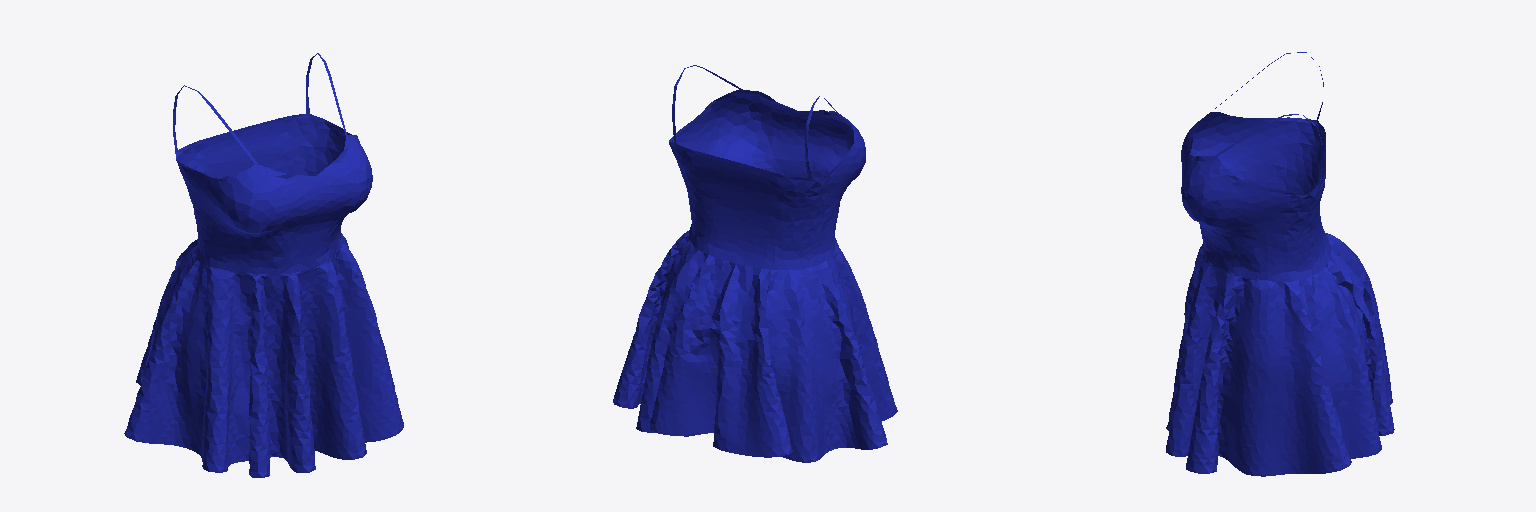
The picture shows the model from 3 angles: view 1: azimuth 30°, elevation 25°; view 2: azimuth 150°, elevation 25°; view 3: azimuth 270°, elevation 25°; orthographic projection.
Visible parts, largest first — view 1: large_blueDress:polySurface1; view 2: large_blueDress:polySurface1; view 3: large_blueDress:polySurface1.
Part boxes in pixels (x1,y1,x2,y2): large_blueDress:polySurface1: (124, 53, 403, 477); large_blueDress:polySurface1: (613, 65, 897, 462); large_blueDress:polySurface1: (1166, 52, 1394, 476).
Size of the model in its own units: 5.31 by 7.23 by 4.24.
10 materials, 1 textured.